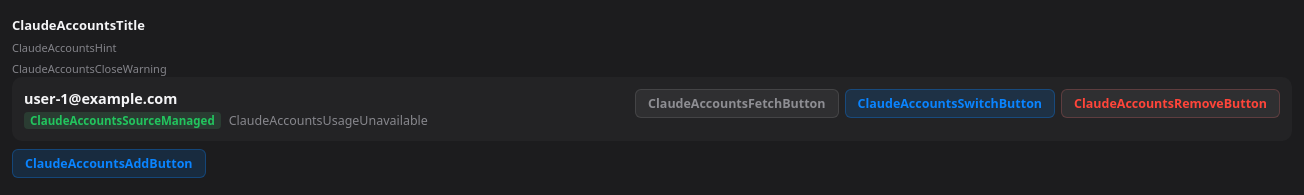
it: ClaudeAccountsSection › removes an account and reloads
Click the button "ClaudeAccountsRemoveButton".
click(1170, 103)  # box top-left (1061, 89), bottom-right (1280, 118)
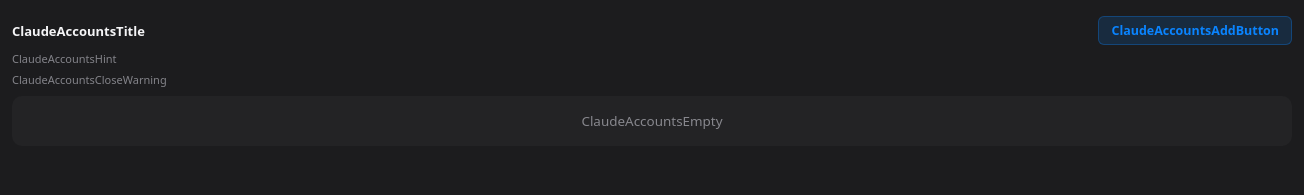
Now the text "ClaudeAccountsEmpty" is shown, box top-left (12, 96), bottom-right (1292, 146)
